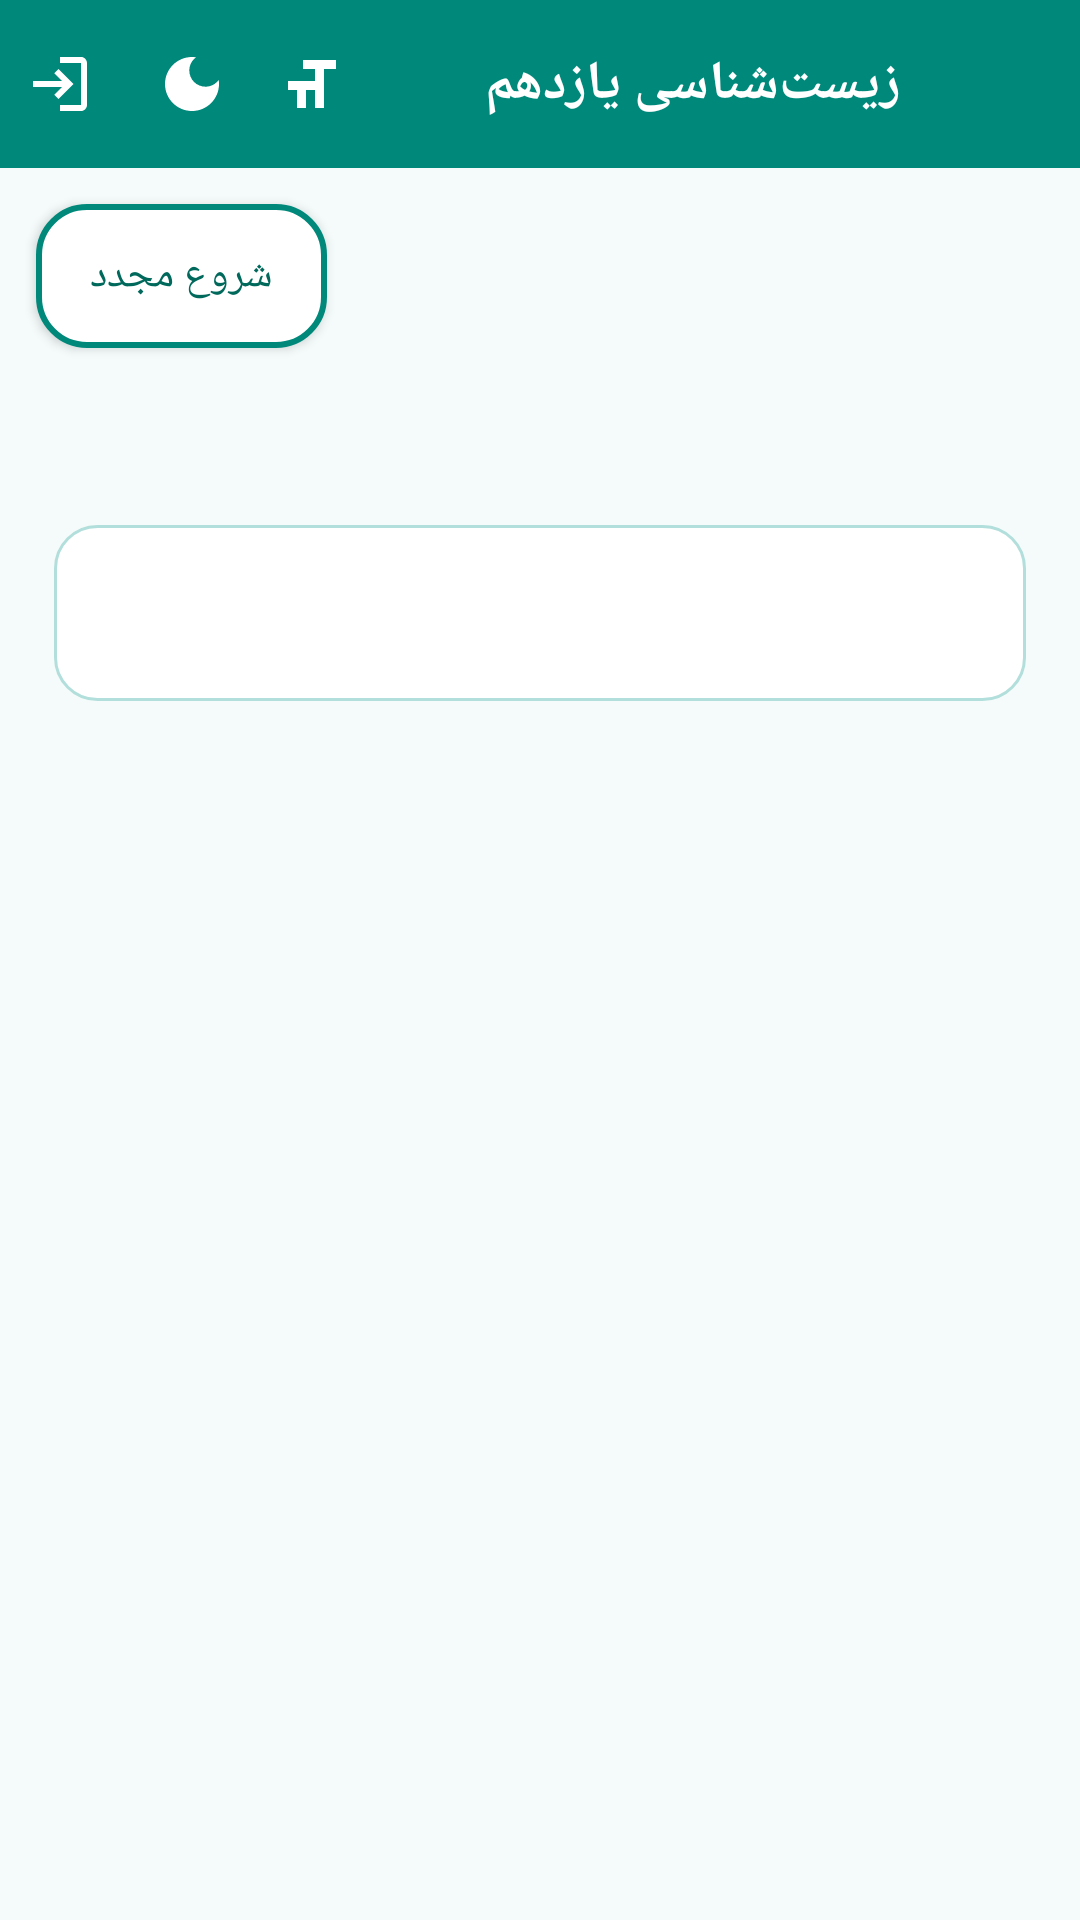

Where to tap for icons on this 1080px×1920px app screen, as (x=x, y=y):
اندازه فونت: (x=312, y=84)
حالت تاریک: (x=192, y=84)
خروج: (x=60, y=84)
